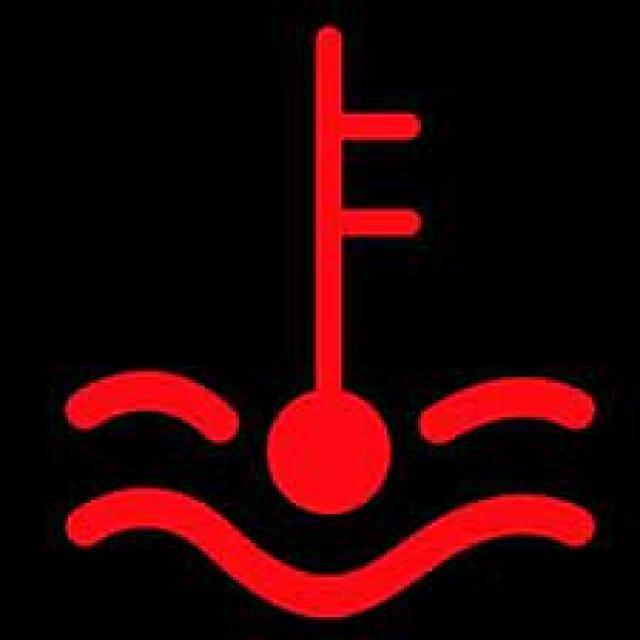TemperatureWarning: (29, 27, 608, 630)
